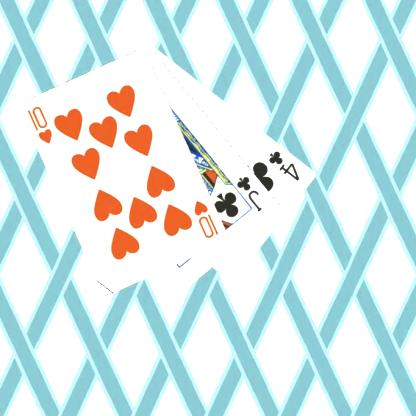10H: (25, 103, 54, 146), (192, 198, 220, 240)
4C: (266, 147, 301, 182)
JC: (234, 173, 264, 214)
